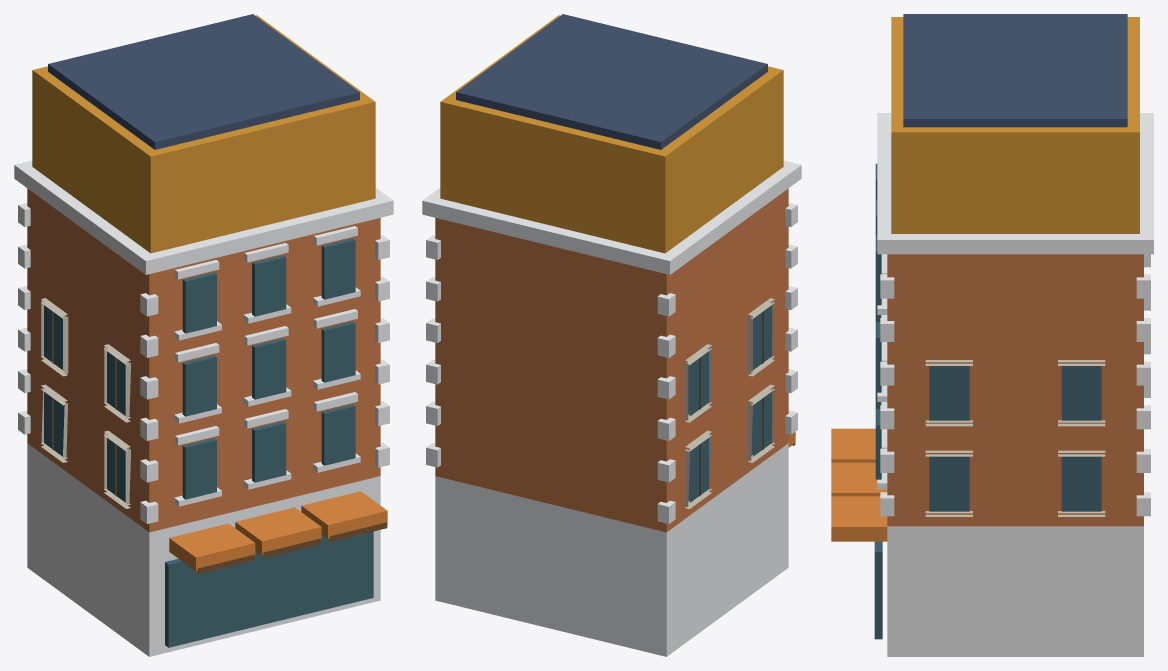
The model's file is city_runtime_02-lod.glb.
3 renders of one model, left to right at view 1: azimuth 30°, elevation 25°; view 2: azimuth 150°, elevation 25°; view 3: azimuth 270°, elevation 25°, orthographic. The views are drawn at different scales.
Parts seen in each view (by area): view 1: Exterior architecture detail 2; view 2: Exterior architecture detail 2; view 3: Exterior architecture detail 2.
Part boxes in pixels (box(x1,y1,x2,y2)): Exterior architecture detail 2: box(14, 14, 393, 656); Exterior architecture detail 2: box(422, 14, 801, 656); Exterior architecture detail 2: box(831, 14, 1153, 656).
Bounding box in the file's own units: 7.5 × 14.62 × 8.08.
